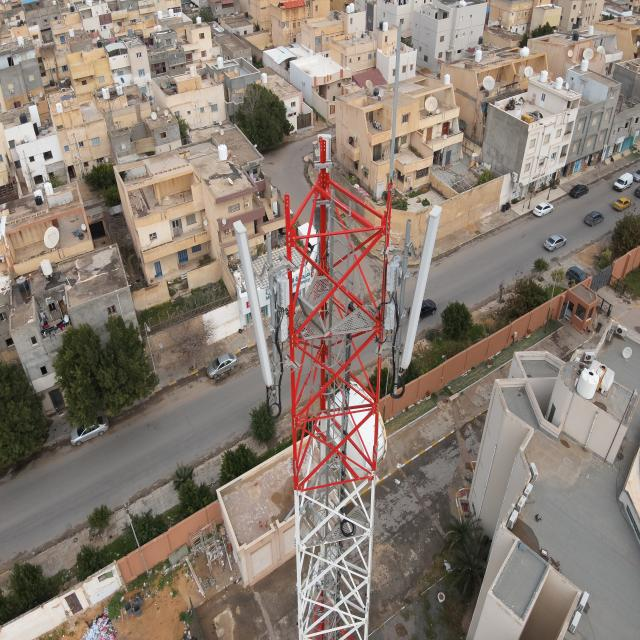Ground Based: (234, 17, 444, 640)
